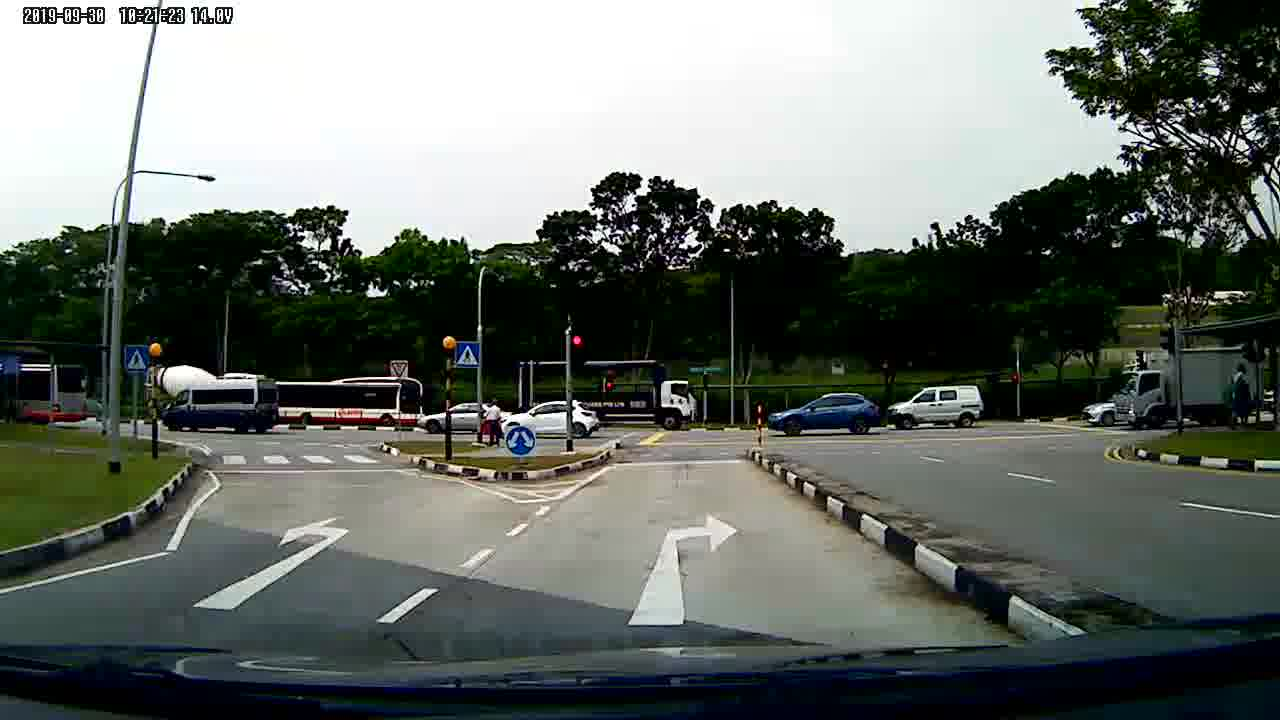bus: (278, 374, 424, 430), (1, 360, 89, 424)
car: (768, 392, 883, 440), (505, 403, 604, 439), (421, 400, 486, 431)
